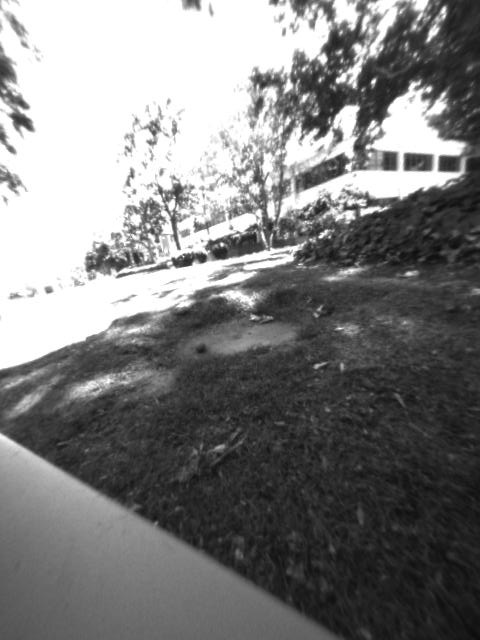dogtoy: (187, 335, 216, 358)
